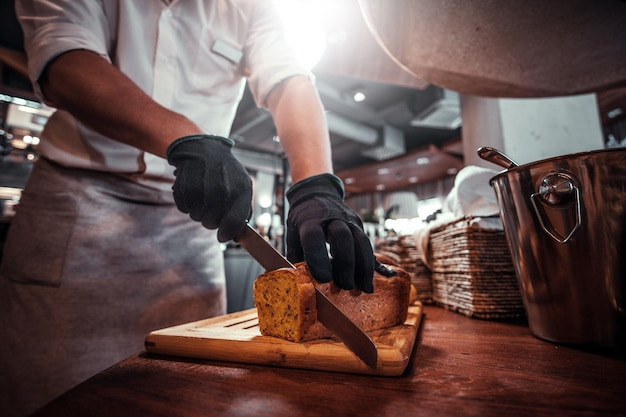knife: (240, 219, 379, 370)
